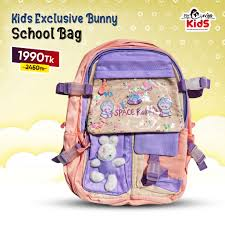bag: (72, 42, 201, 210)
